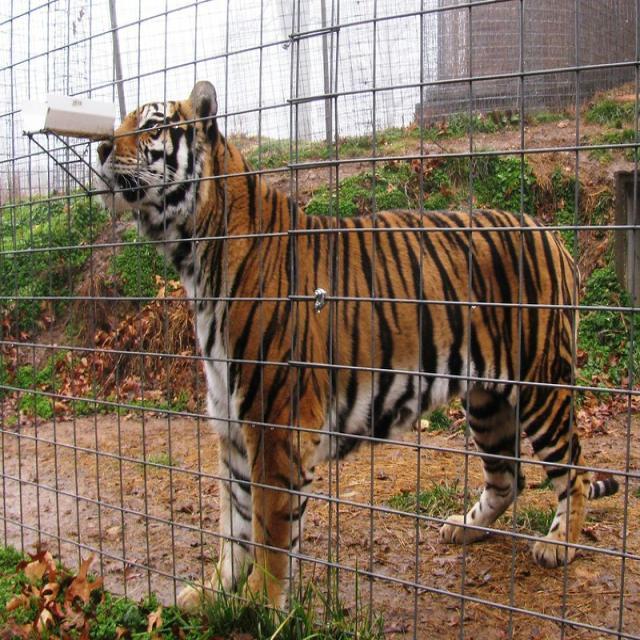Tiger: (95, 79, 583, 609)
